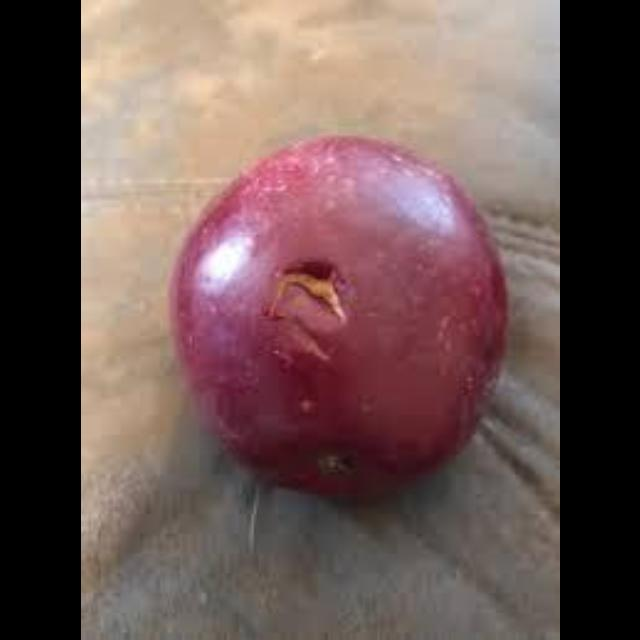apple: (171, 136, 505, 497)
bruise: (259, 297, 343, 370)
scratch: (268, 267, 342, 319)
